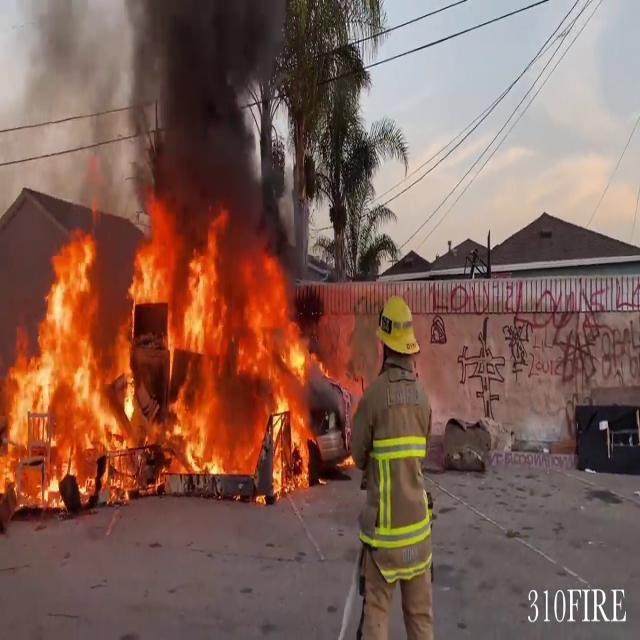Fire: (0, 206, 322, 509)
Smoke: (32, 0, 299, 229)
